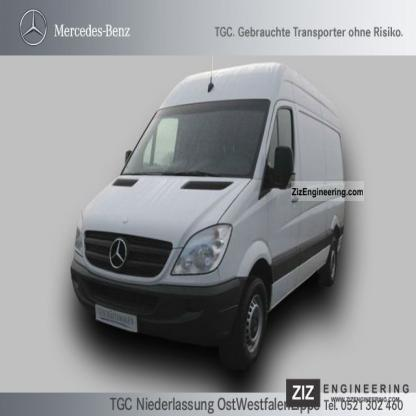Vehicle: (67, 60, 348, 382)
